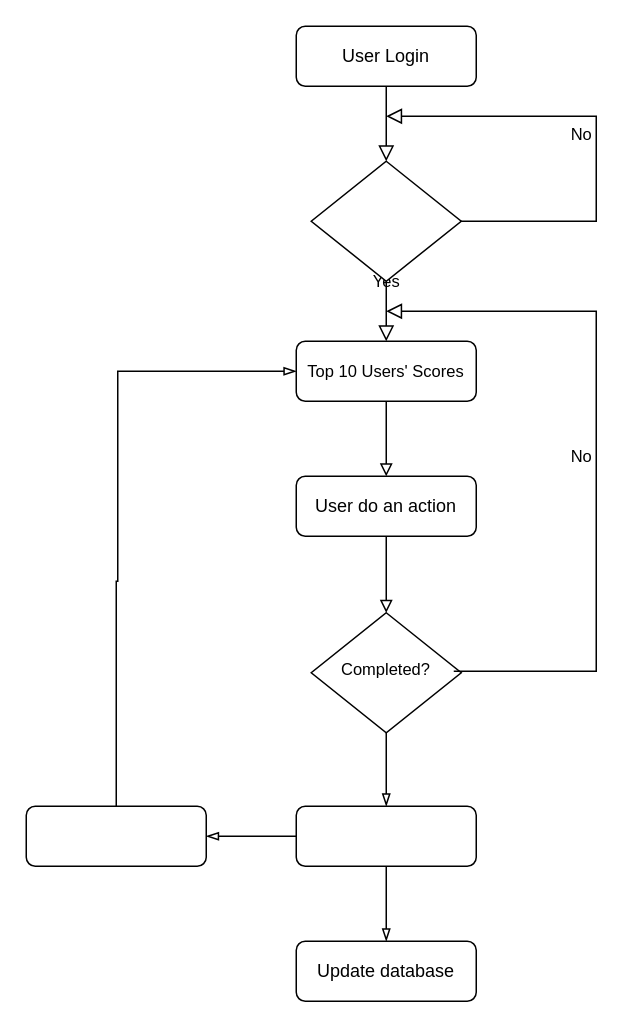
Image size: 638x1028. Some labels were removed from this diagram. The shapes that lost their labels are listed below. From the top down, each one's box as (x1, y1, x2, y2) in pixels, then its label:
(310, 160, 461, 281): successfully logged in?
(25, 805, 206, 866): Emit a WebSocket event
(295, 805, 476, 866): Call an API to live update score
